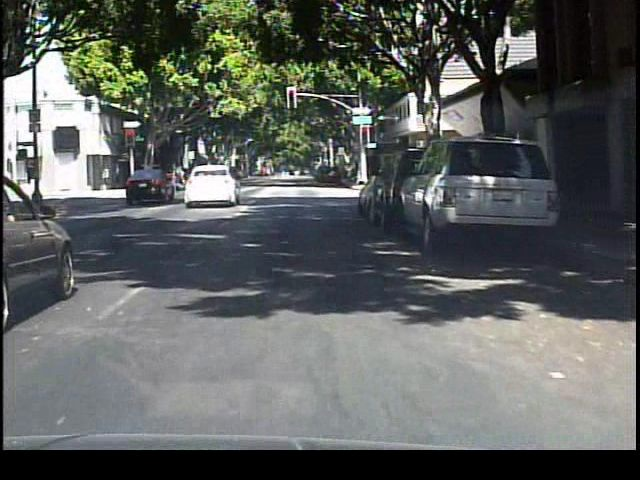person: (173, 161, 190, 200)
